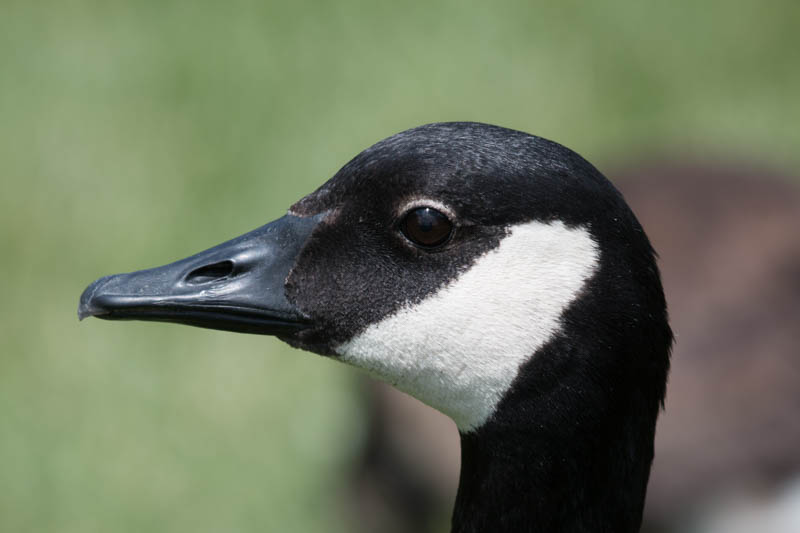goose-head: (79, 122, 670, 431)
